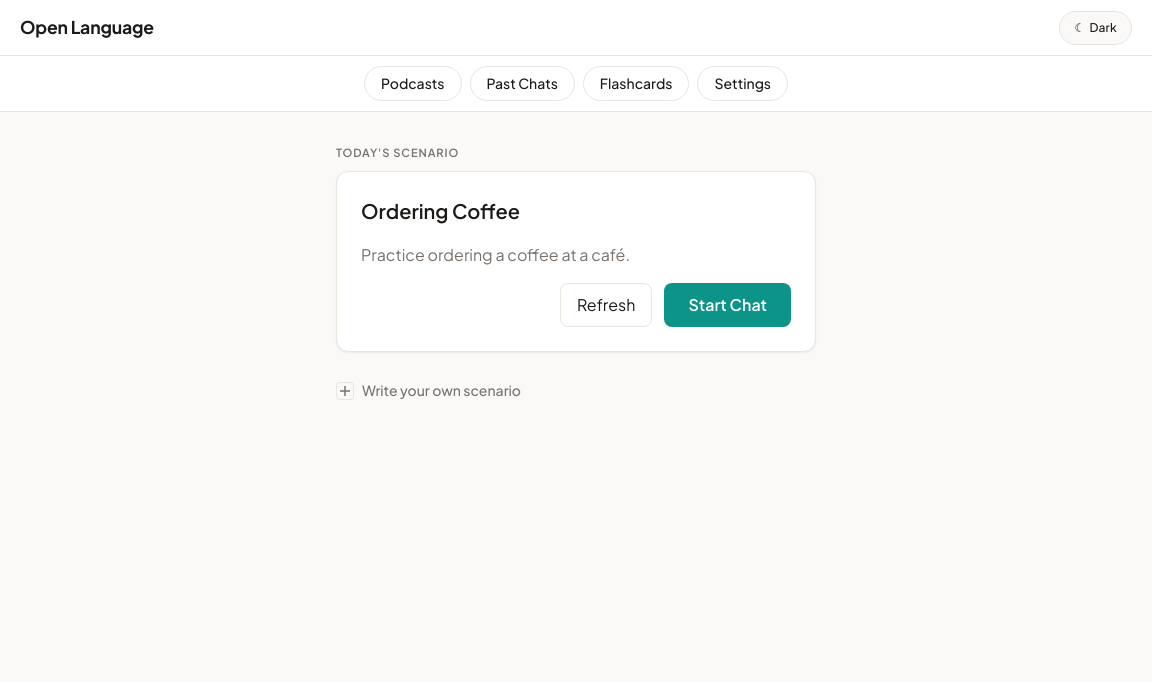
Test case: Home page — custom scenario › surfaces a failure to start a custom conversation
Expected: the heading "Ordering Coffee" is shown, [361,198,520,223]
Click the button "Write your own scenario": point(442, 390) [336,376,816,405]
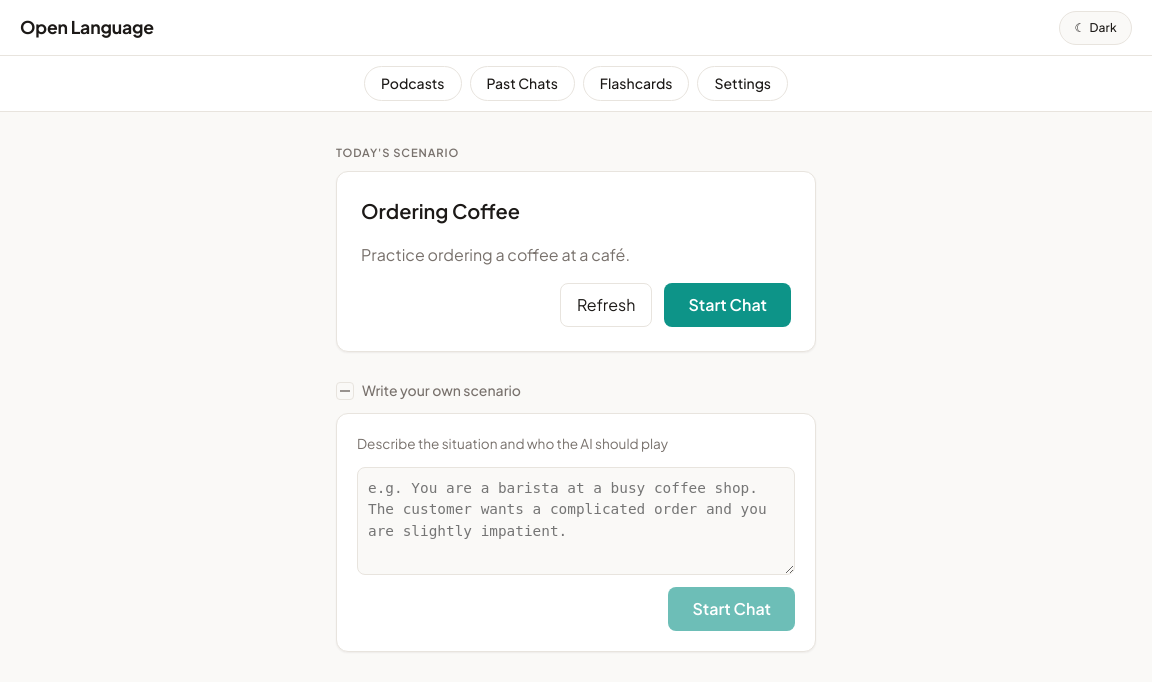
Replace the text in the text box labelled "Describe the situation and who the AI should play" with "Be a barista": point(576, 521) [357,467,795,575]
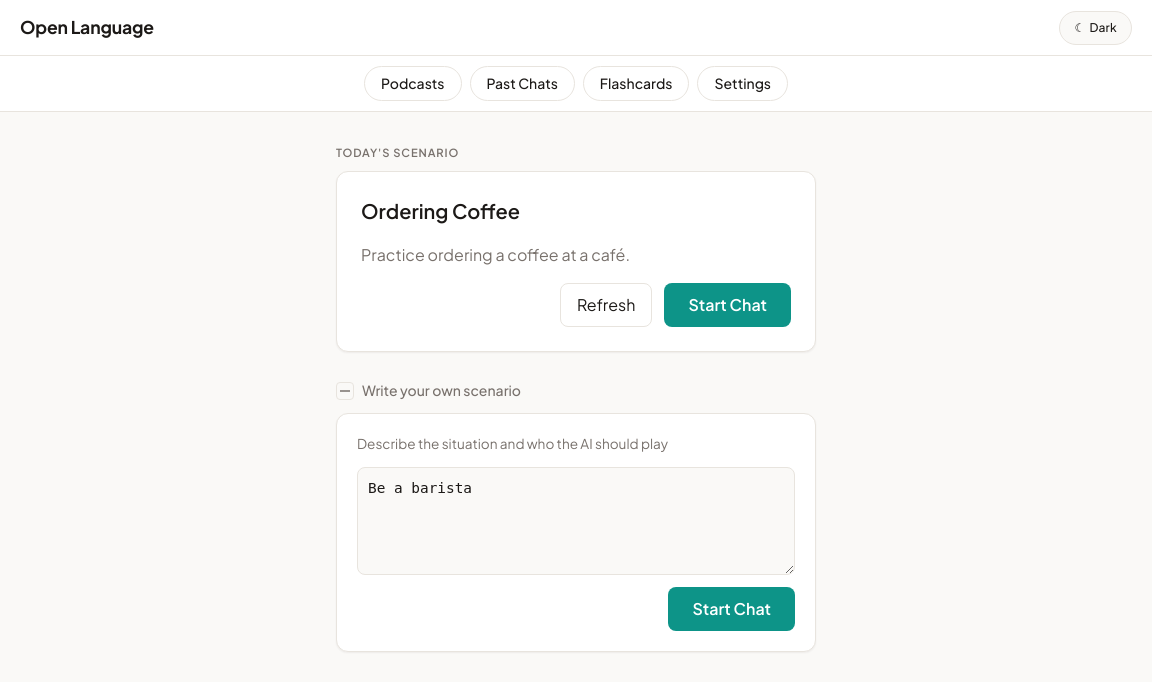
Click the 2nd button "Start Chat": point(732, 609) [668,587,795,631]
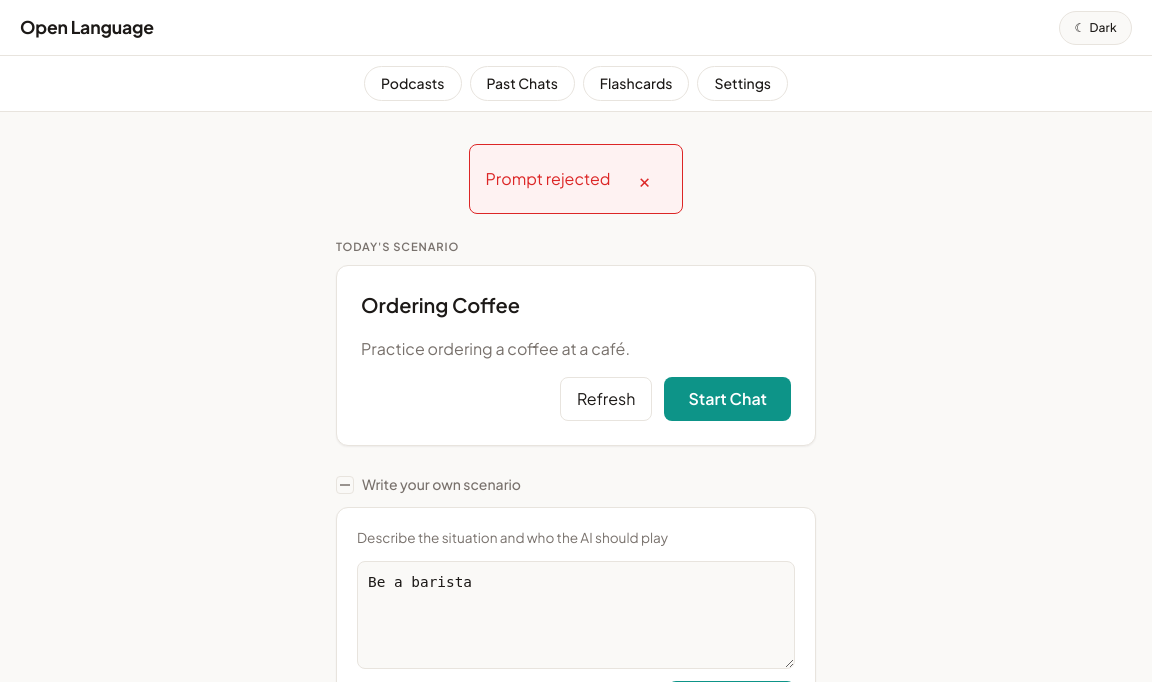
Expected: the text "Prompt rejected" is shown, [486,167,610,191]
